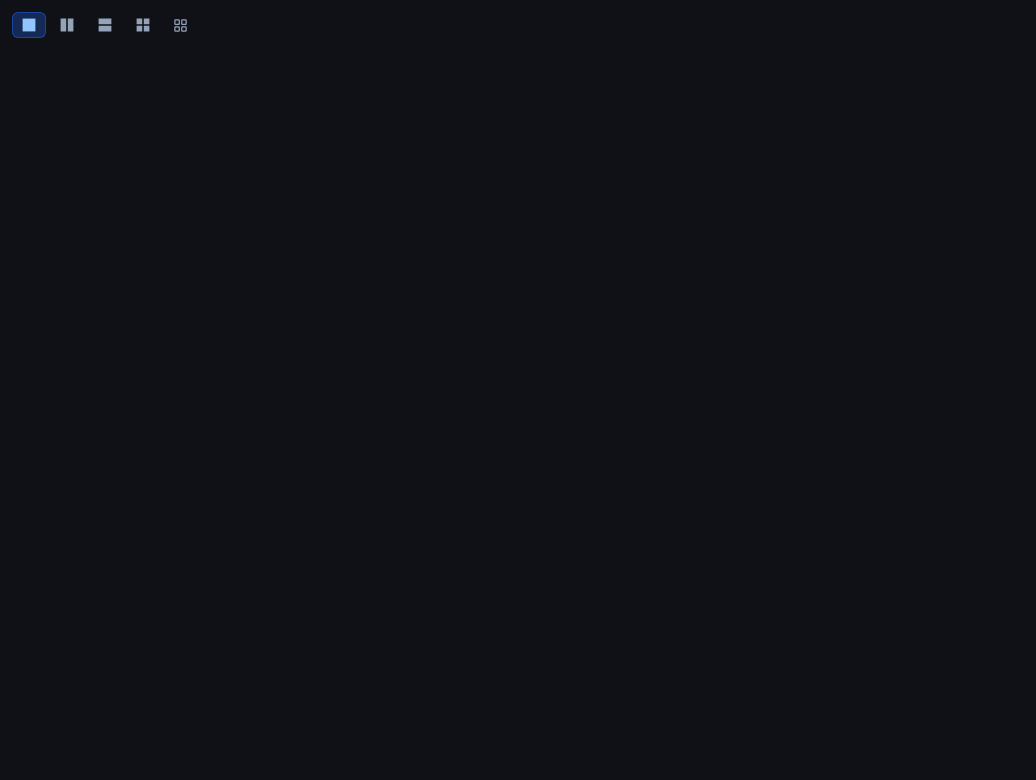
Test: LayoutPicker — custom grid popover › closes the popover when clicking the backdrop
The image size is (1036, 780).
Click the button named "Custom grid".
click(180, 25)  # box [164,12,197,38]
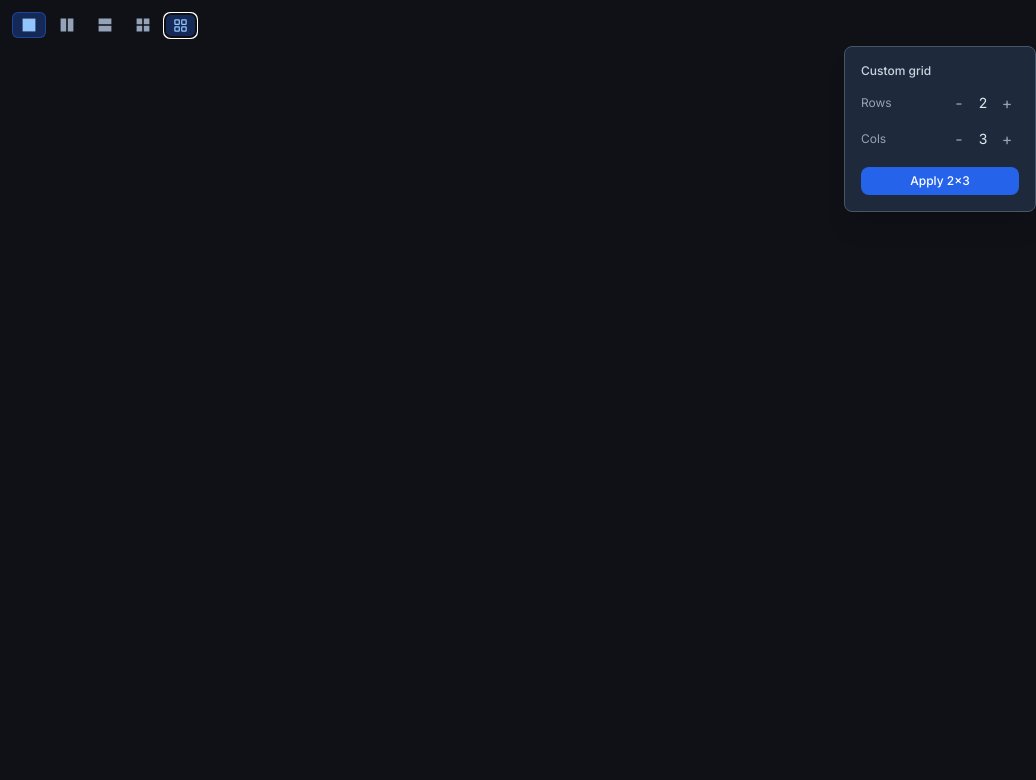
Check: the element with class "inset-0" is shown
Click the element with class "inset-0".
click(524, 396)  # box [12,12,1035,779]
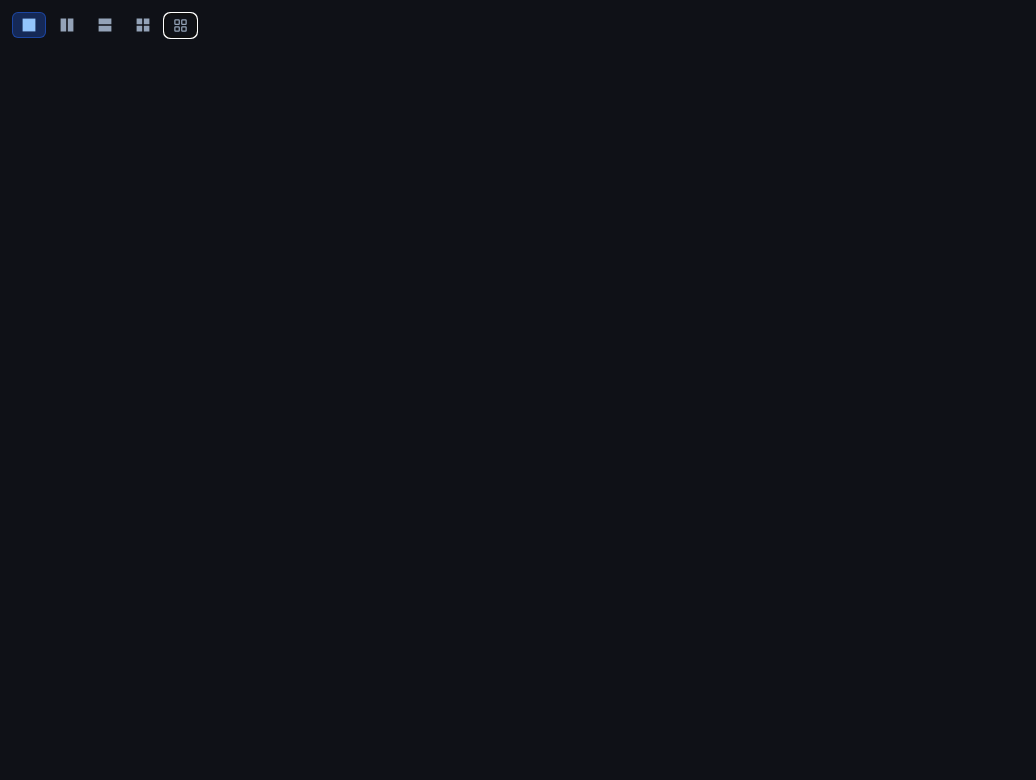
Check: the text "Custom grid" is gone
